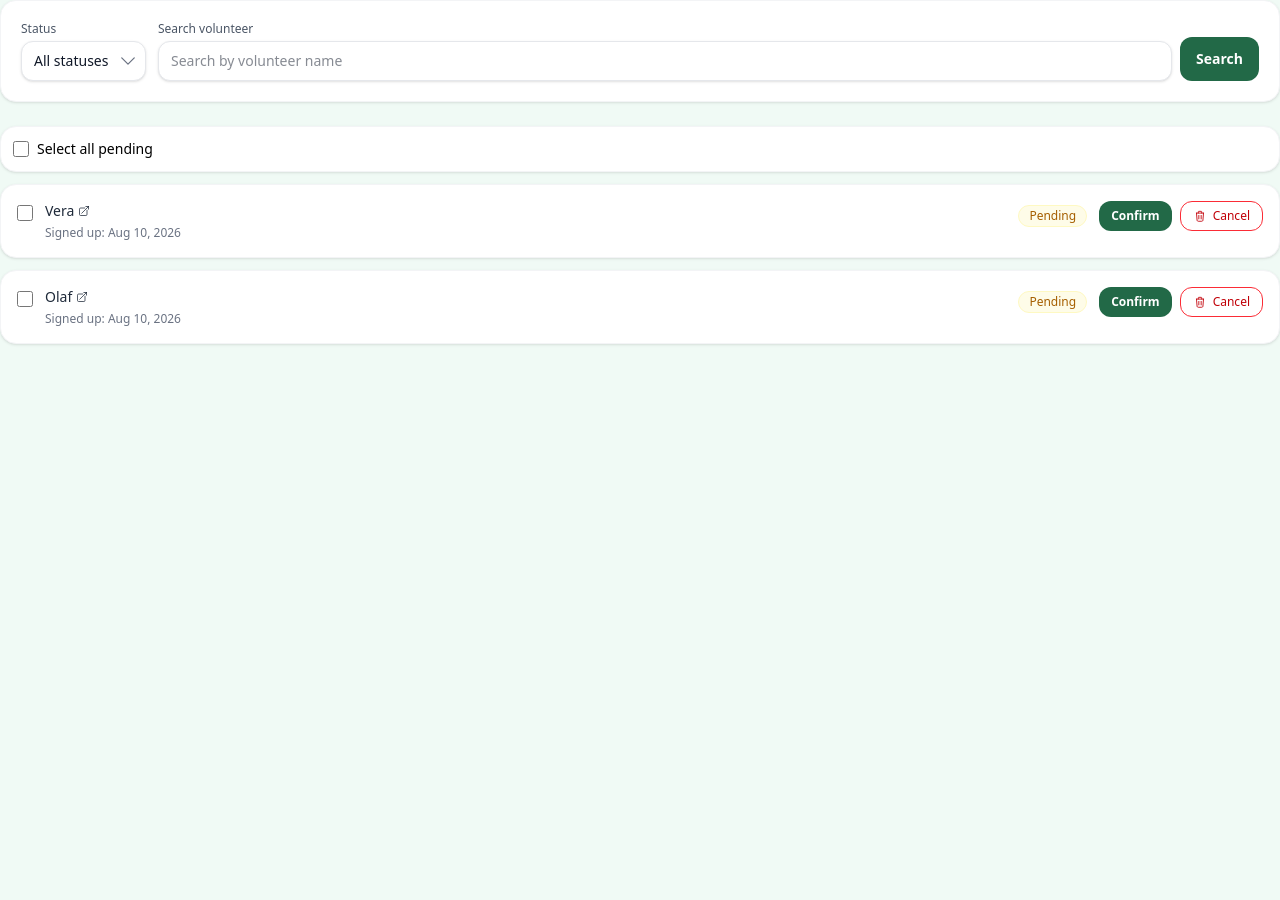
Scenario: EngagementManagementPage bulk confirm › reports a partial failure without pretending the whole batch worked
Expected: the link "Vera" is shown, top-left (45, 201), bottom-right (90, 221)
Click the checkbox labelled "Select all pending". click: (21, 149)
box: top-left (13, 141), bottom-right (29, 157)
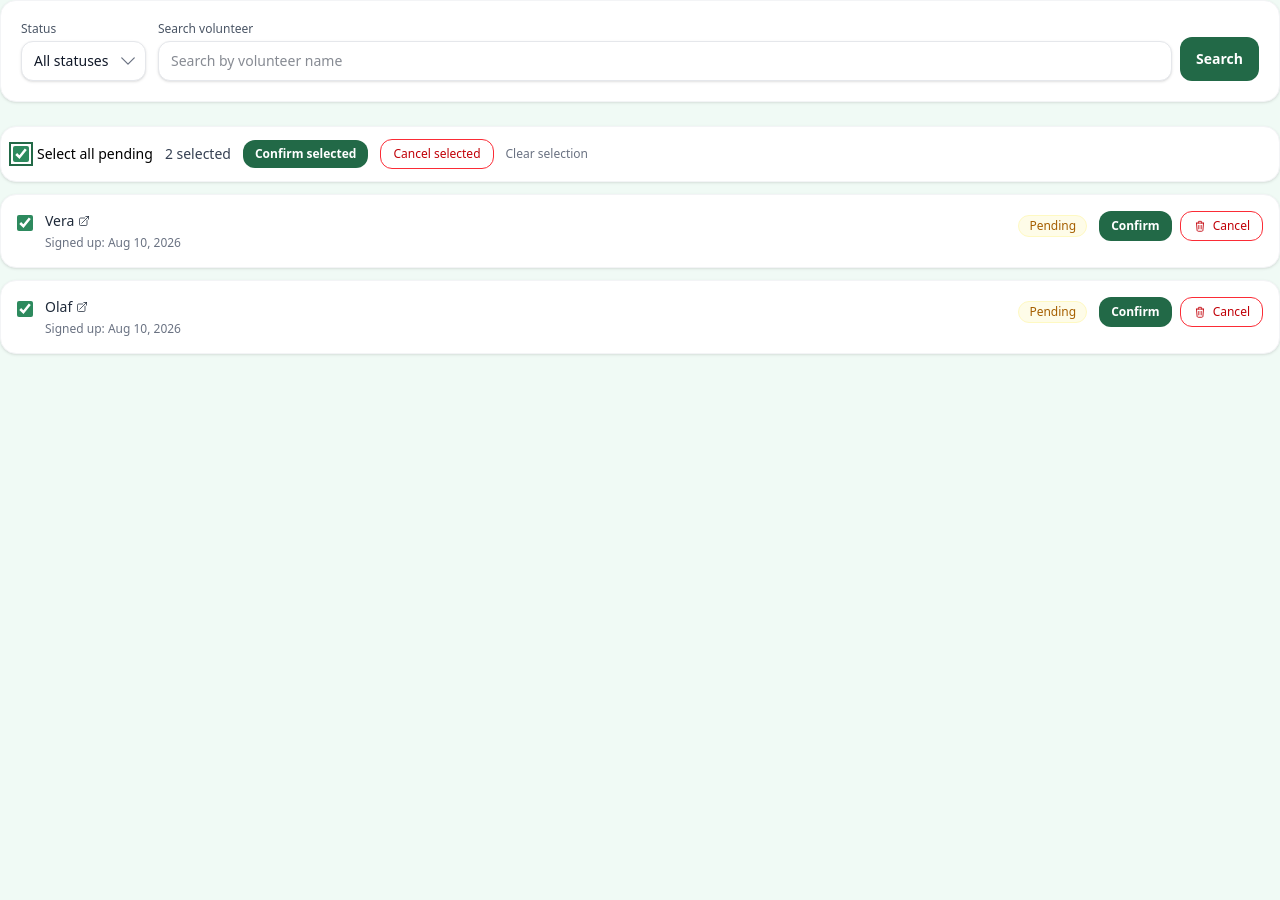
Click the button "Confirm selected". click: (306, 154)
box: top-left (243, 140), bottom-right (368, 168)
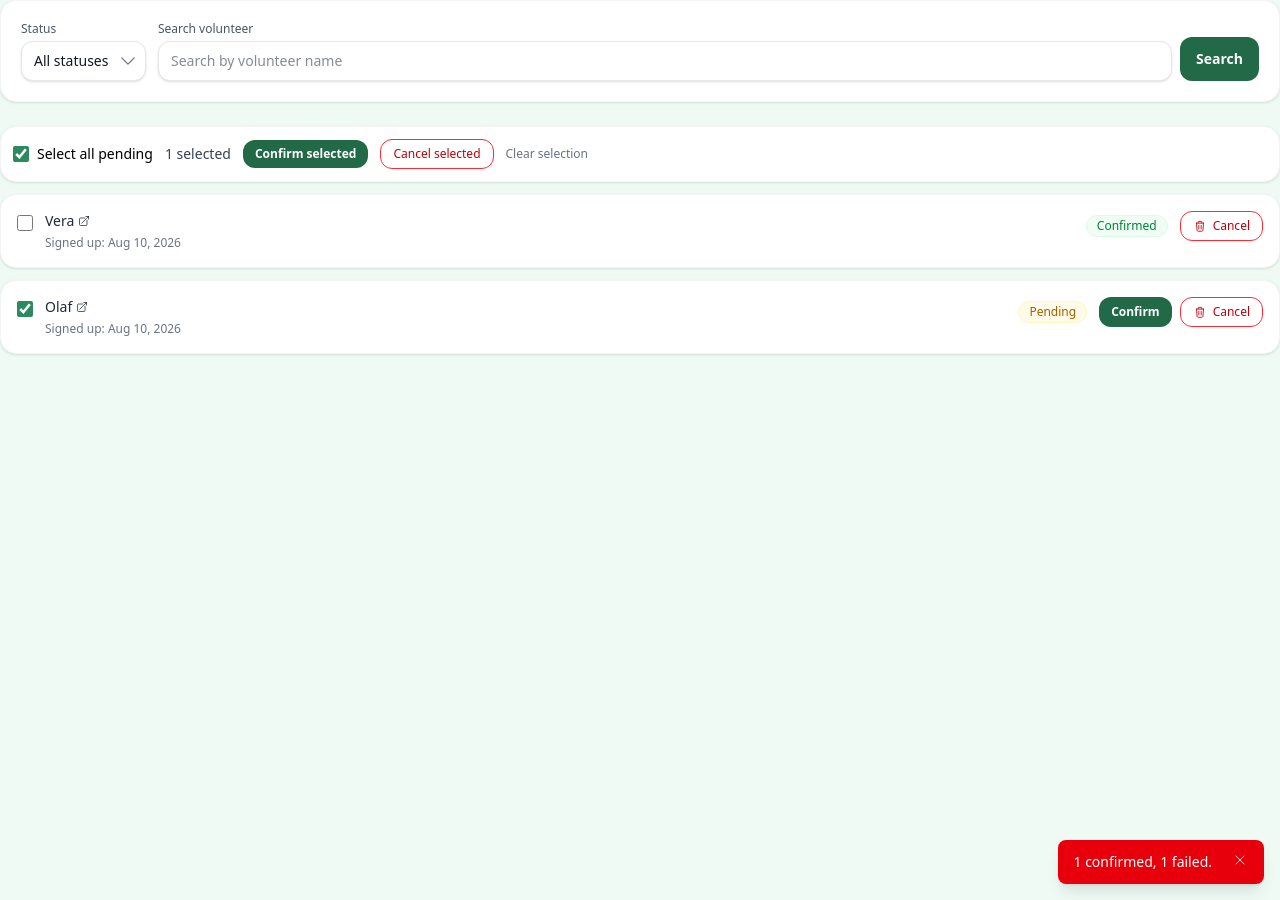
Result: the text "1 confirmed, 1 failed." is shown at top-left (1074, 852), bottom-right (1212, 872)
